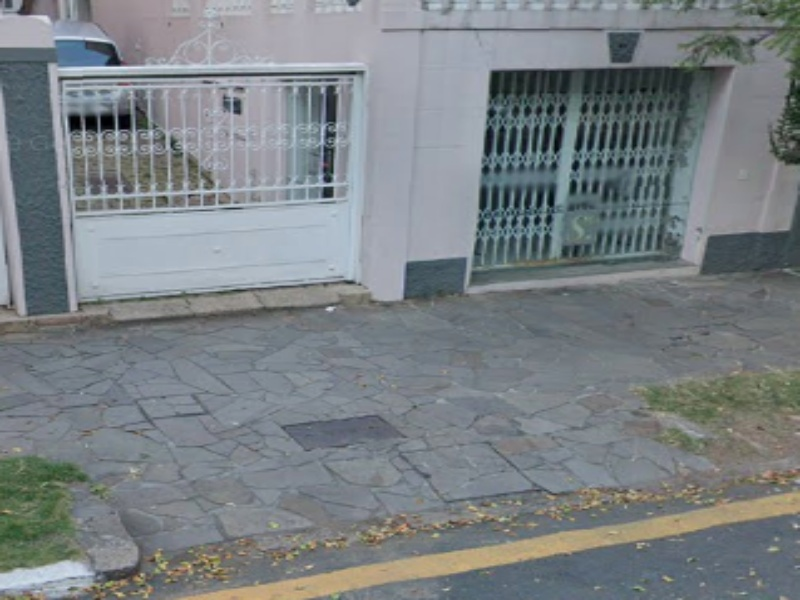g97: (141, 486, 750, 578)
